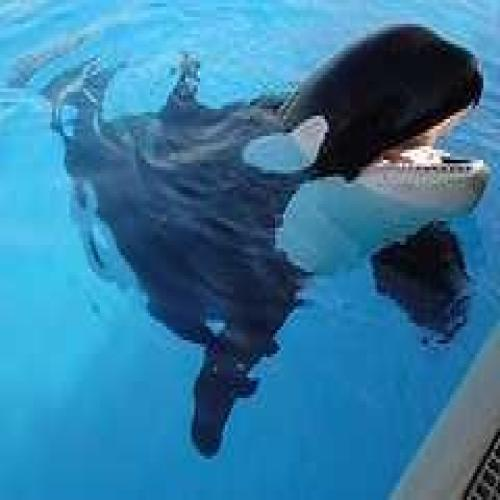killer_whale-endangered: (54, 24, 500, 350)
